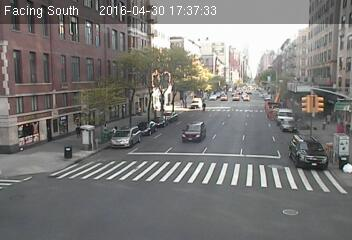neg: (20, 142, 45, 175), (246, 95, 270, 127), (183, 37, 206, 68), (189, 166, 212, 197), (308, 86, 331, 116), (69, 51, 90, 79), (113, 136, 134, 164), (124, 50, 144, 77), (238, 51, 256, 76), (58, 144, 76, 168), (277, 201, 295, 225), (157, 91, 175, 115), (175, 118, 192, 142), (111, 188, 128, 211), (28, 105, 44, 126), (26, 68, 41, 88), (250, 176, 265, 195), (274, 122, 287, 139), (315, 166, 327, 183)
pos: (199, 98, 211, 113)
